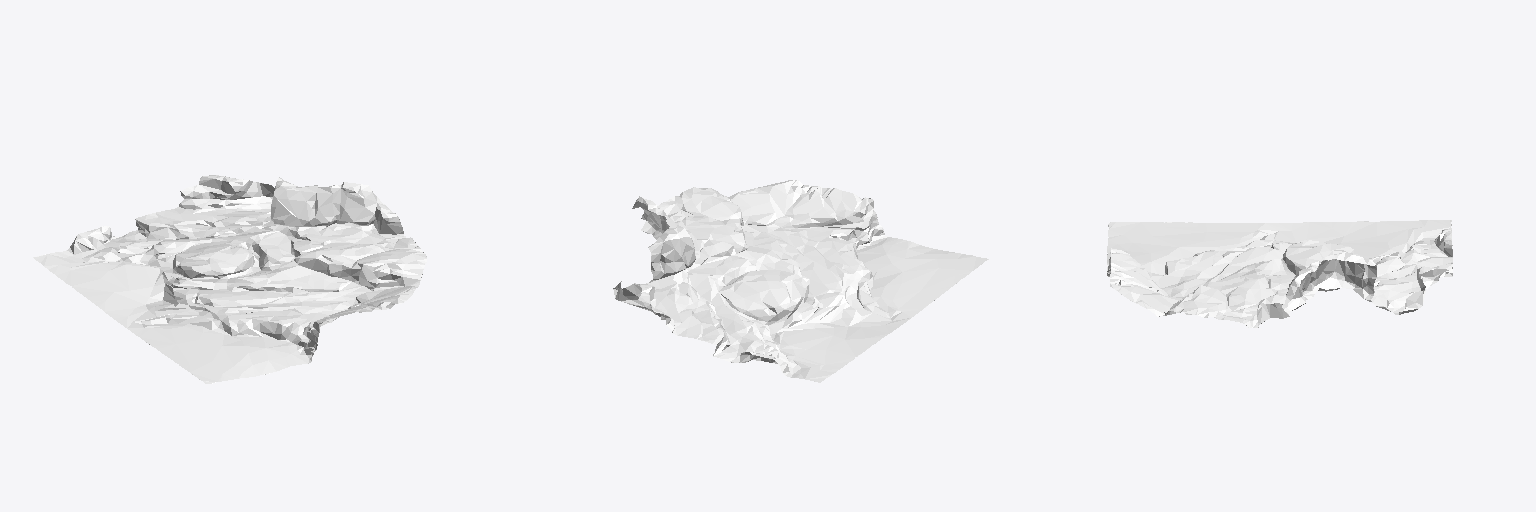
Rendered from BeachRockFree_tris.obj.
3 renders of one model, left to right at view 1: azimuth 30°, elevation 25°; view 2: azimuth 150°, elevation 25°; view 3: azimuth 270°, elevation 25°, orthographic.
Visible parts, largest first — view 1: BeachRockFree_tris; view 2: BeachRockFree_tris; view 3: BeachRockFree_tris.
Boxes of the visible parts, box(x1,y1,x2,y2) form: BeachRockFree_tris: box(33, 175, 426, 383); BeachRockFree_tris: box(613, 180, 988, 382); BeachRockFree_tris: box(1107, 220, 1452, 327).
Size of the model in its own units: 5.43 by 1.4 by 5.91.